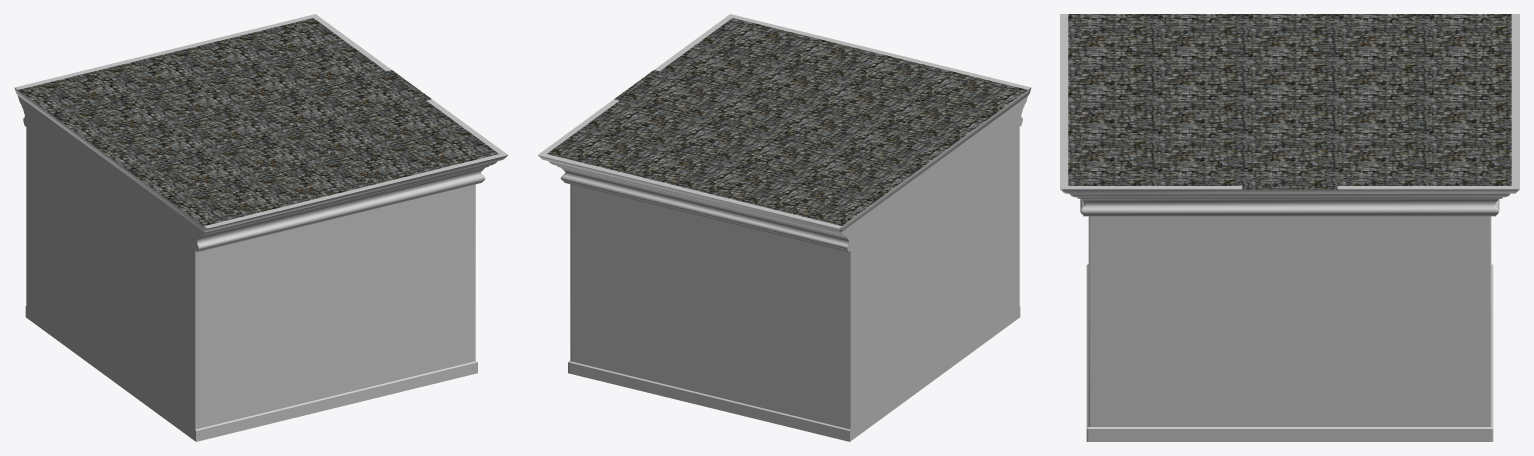
Rendered from SM_PlatformSquare.FBX.
3 renders of one model, left to right at view 1: azimuth 30°, elevation 25°; view 2: azimuth 150°, elevation 25°; view 3: azimuth 270°, elevation 25°, orthographic. The views are drawn at different scales.
Parts seen in each view (by area): view 1: SM_PlatformSquare; view 2: SM_PlatformSquare; view 3: SM_PlatformSquare.
Part boxes in pixels (<box>): SM_PlatformSquare: <box>14,14,508,441</box>; SM_PlatformSquare: <box>537,14,1031,441</box>; SM_PlatformSquare: <box>1060,14,1519,441</box>.
Size of the model in its own units: 1333 by 1479 by 937.
